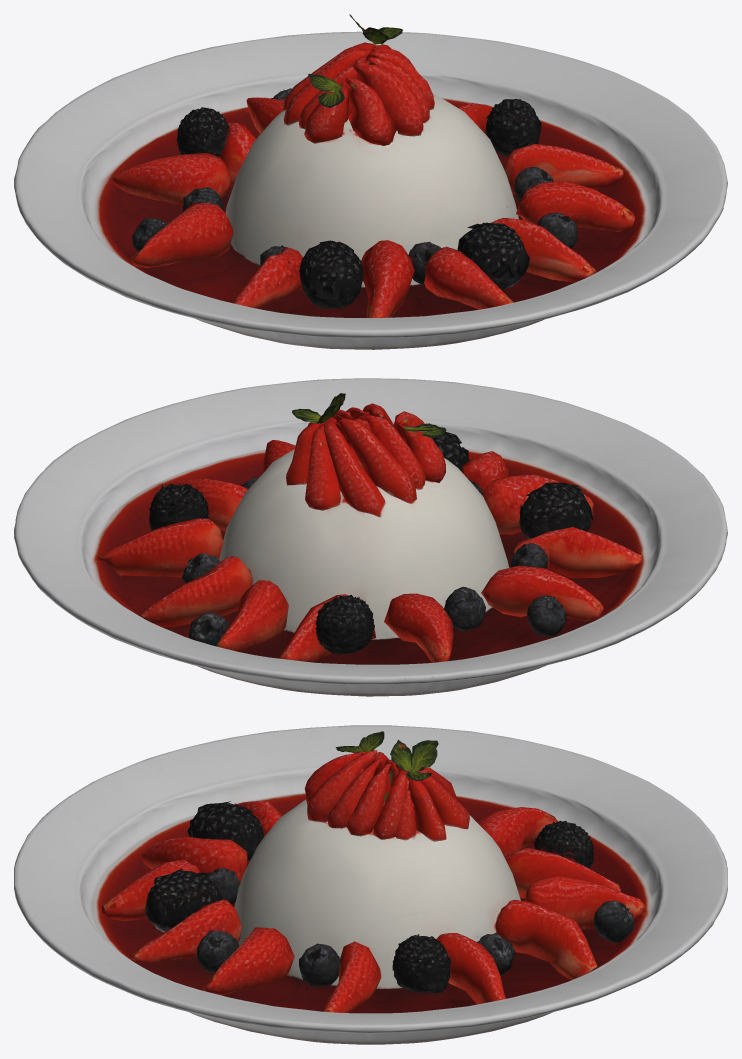
Rendered from panna_cotta_frambuesa.fbx.
3 views of the same model, one above another, from view 1: azimuth 30°, elevation 25°; view 2: azimuth 150°, elevation 25°; view 3: azimuth 270°, elevation 25° (orthographic).
Parts seen in each view (by area): view 1: meshes[0]; view 2: meshes[0]; view 3: meshes[0].
Boxes of the visible parts, x1=… form: meshes[0]: x1=14, y1=14, x2=727, y2=349; meshes[0]: x1=14, y1=378, x2=727, y2=696; meshes[0]: x1=14, y1=725, x2=727, y2=1044.
Bounding box in the file's own units: 99.8 × 31.84 × 99.8.
Materials: 1 (1 with a texture image).
